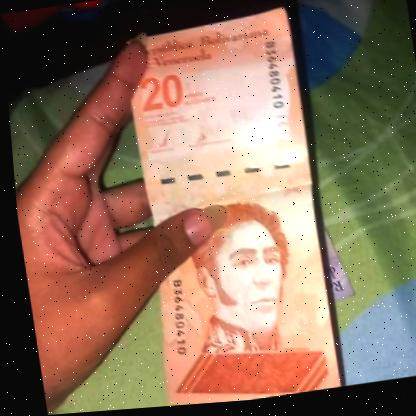twenty-front-vef: (110, 8, 336, 410)
